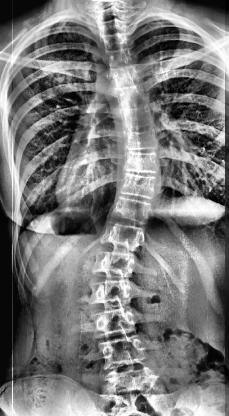Vertebrae: (92, 337, 158, 367), (82, 274, 140, 308), (84, 308, 146, 336), (97, 216, 148, 250), (90, 248, 142, 280), (104, 64, 152, 93), (110, 199, 154, 227), (121, 150, 165, 174), (120, 102, 160, 128), (120, 173, 160, 196), (100, 52, 140, 74), (123, 129, 161, 151), (110, 86, 148, 107), (96, 30, 134, 51), (98, 19, 134, 33)
